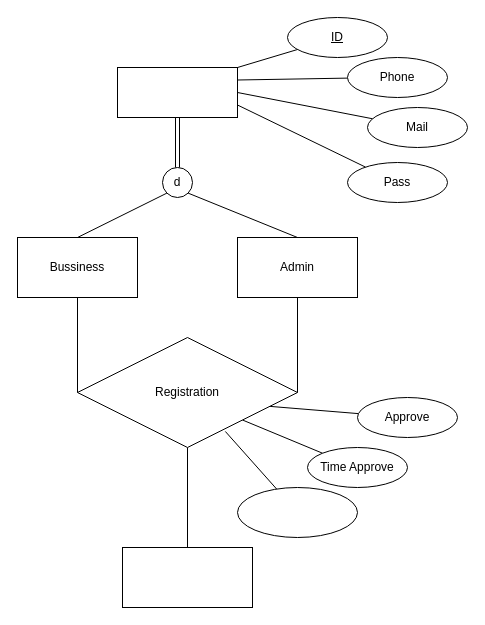
The diagram is 485 pixels wide and 625 high, and some of its shapes have lost their labels. Each missing label, with the centre of its shape:
"Acount" belongs at (177,92).
"Booth" belongs at (187,577).
"Time Registration" belongs at (297,512).
